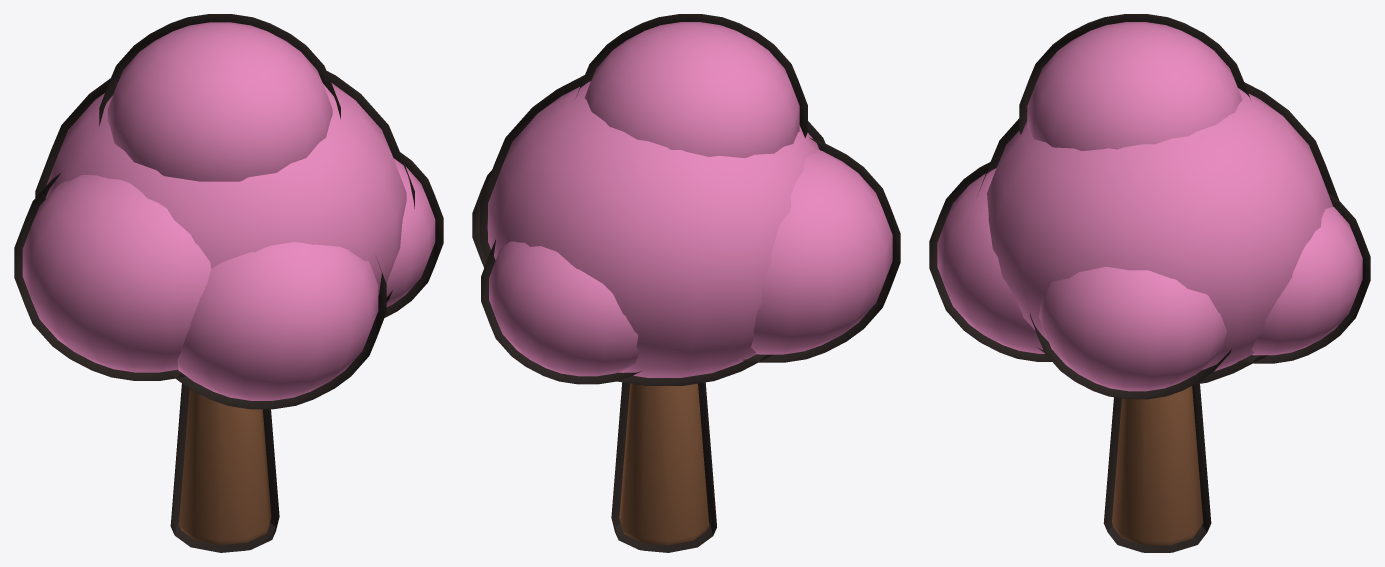
File: Tree_Round_Pink.fbx
The picture shows the model from 3 angles, left to right: view 1: azimuth 30°, elevation 25°; view 2: azimuth 150°, elevation 25°; view 3: azimuth 270°, elevation 25°; orthographic projection. The views are drawn at different scales.
Parts seen in each view (by area): view 1: PR_Tree_Round_Pink_LeafPink, PR_Tree_Round_Pink_Outline, PR_Tree_Round_Pink_Trunk; view 2: PR_Tree_Round_Pink_LeafPink, PR_Tree_Round_Pink_Outline, PR_Tree_Round_Pink_Trunk; view 3: PR_Tree_Round_Pink_LeafPink, PR_Tree_Round_Pink_Outline, PR_Tree_Round_Pink_Trunk.
Boxes of the visible parts, <box> form: PR_Tree_Round_Pink_LeafPink: <box>22,22,435,400</box>; PR_Tree_Round_Pink_Outline: <box>14,14,443,552</box>; PR_Tree_Round_Pink_Trunk: <box>179,389,271,544</box>; PR_Tree_Round_Pink_LeafPink: <box>486,22,892,377</box>; PR_Tree_Round_Pink_Outline: <box>472,14,900,552</box>; PR_Tree_Round_Pink_Trunk: <box>619,383,709,545</box>; PR_Tree_Round_Pink_LeafPink: <box>937,22,1362,391</box>; PR_Tree_Round_Pink_Outline: <box>929,14,1370,552</box>; PR_Tree_Round_Pink_Trunk: <box>1112,386,1203,545</box>.
Size of the model in its own units: 3.27 by 4.08 by 3.24.
